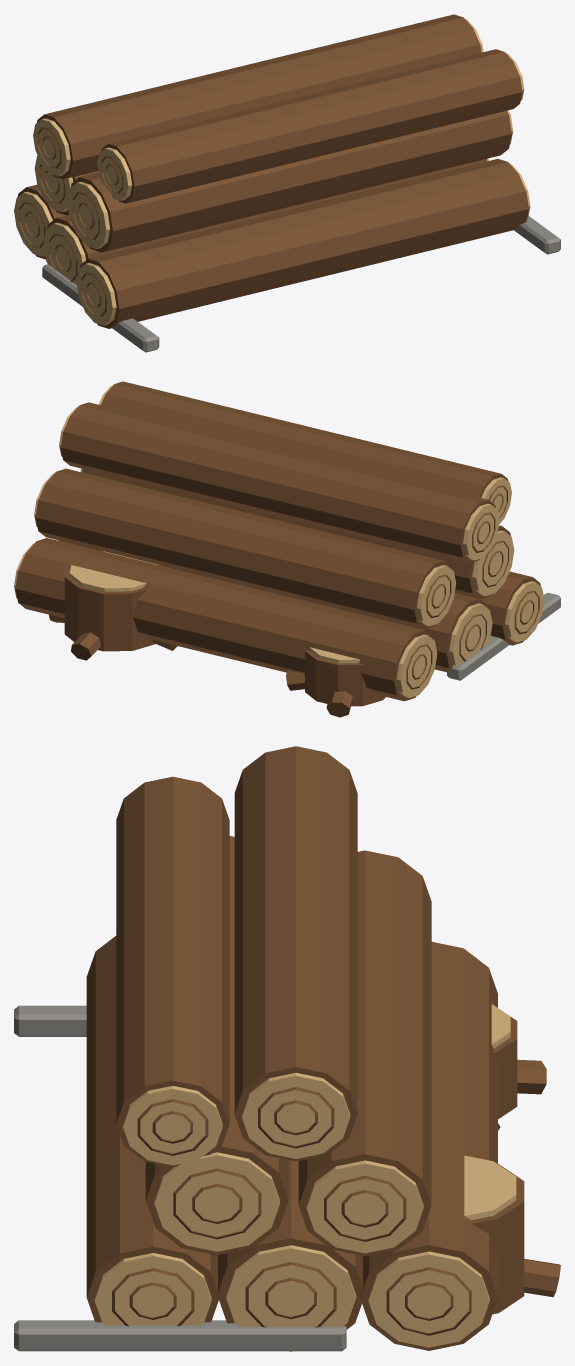
The model's file is timber_stand.glb.
3 views of the same model, one above another, from view 1: azimuth 30°, elevation 25°; view 2: azimuth 150°, elevation 25°; view 3: azimuth 270°, elevation 25° (orthographic). The views are drawn at different scales.
Visible parts, largest first — view 1: timber_stand; view 2: timber_stand; view 3: timber_stand.
Boxes of the visible parts, x1=… form: timber_stand: x1=14, y1=14, x2=560, y2=352; timber_stand: x1=14, y1=381, x2=560, y2=717; timber_stand: x1=14, y1=746, x2=560, y2=1351.
Bounding box in the file's own units: 3.14 × 1.29 × 2.18.
